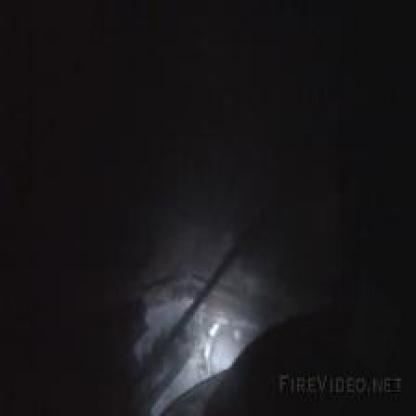other: (136, 269, 253, 381)
